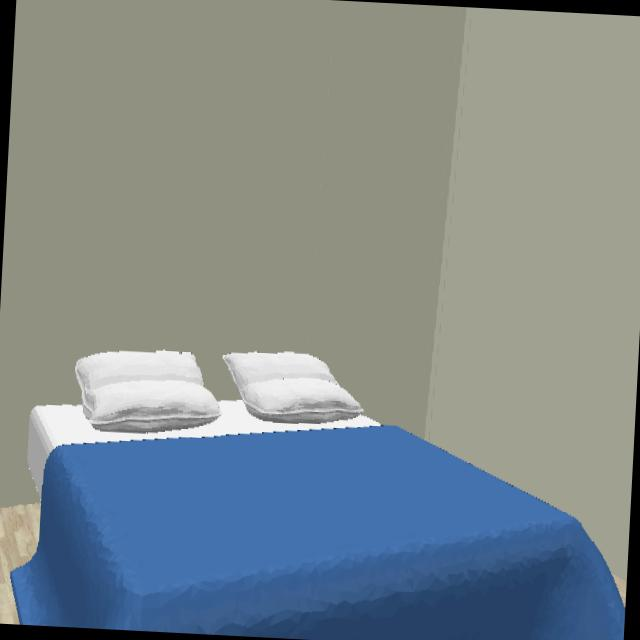bed: (10, 351, 625, 640)
pillow: (74, 351, 222, 435), (222, 352, 364, 424)
